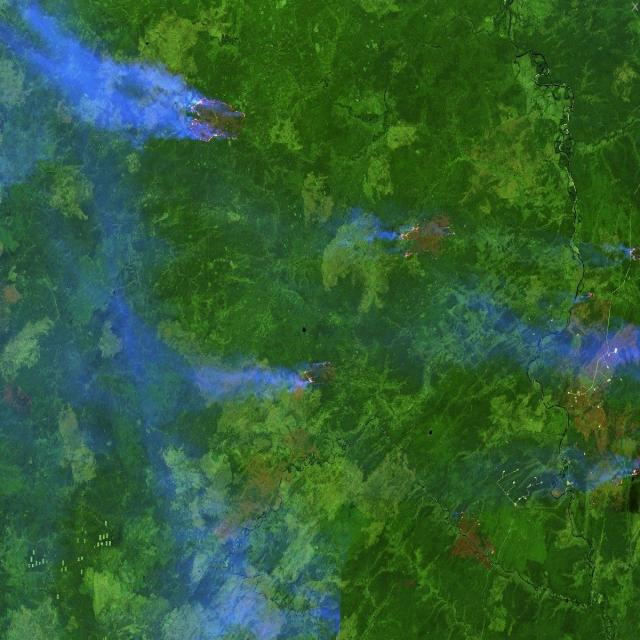fire: (186, 88, 248, 146), (393, 214, 435, 266), (300, 355, 338, 389), (626, 242, 640, 268), (627, 460, 640, 485), (584, 284, 598, 302)
